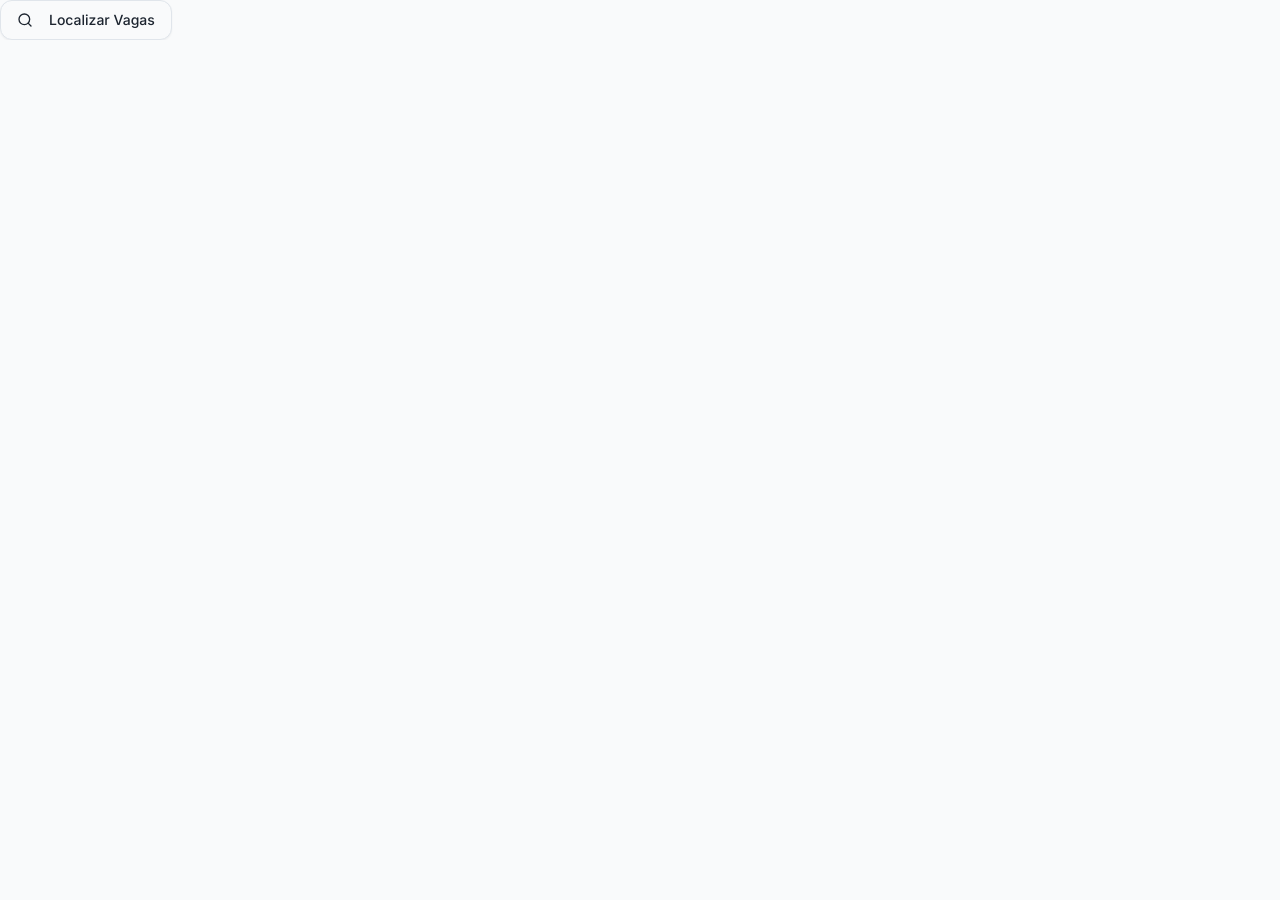
Scenario: LocalizarVagasPanel (integração) › falha nas pendências = Informação não disponível, nunca zero
The image size is (1280, 900).
Click the button "Localizar Vagas" at (86,20), box [0,0,172,40]
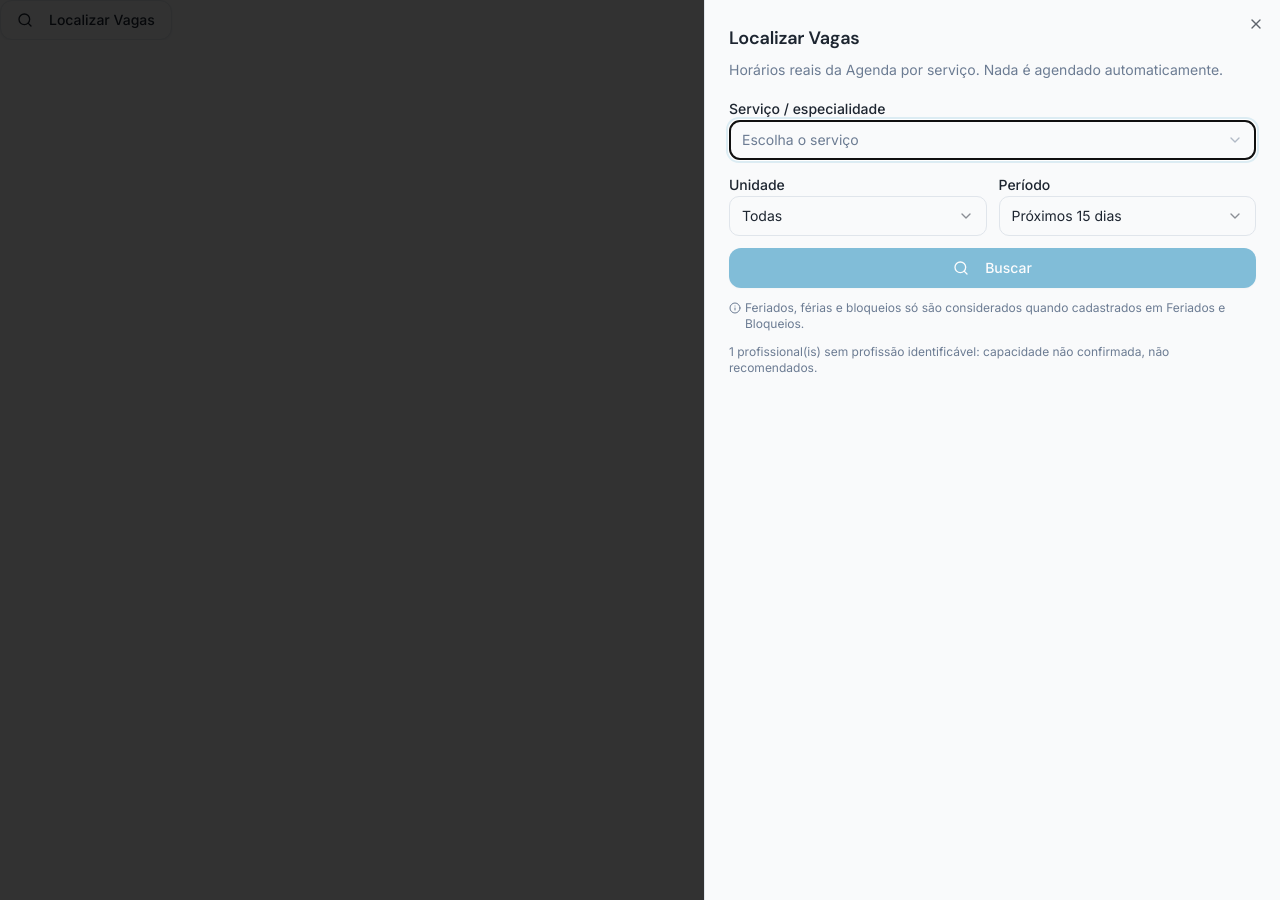
Click the dropdown labelled "Escolha o serviço" at (800,140), box [729,120,1256,160]
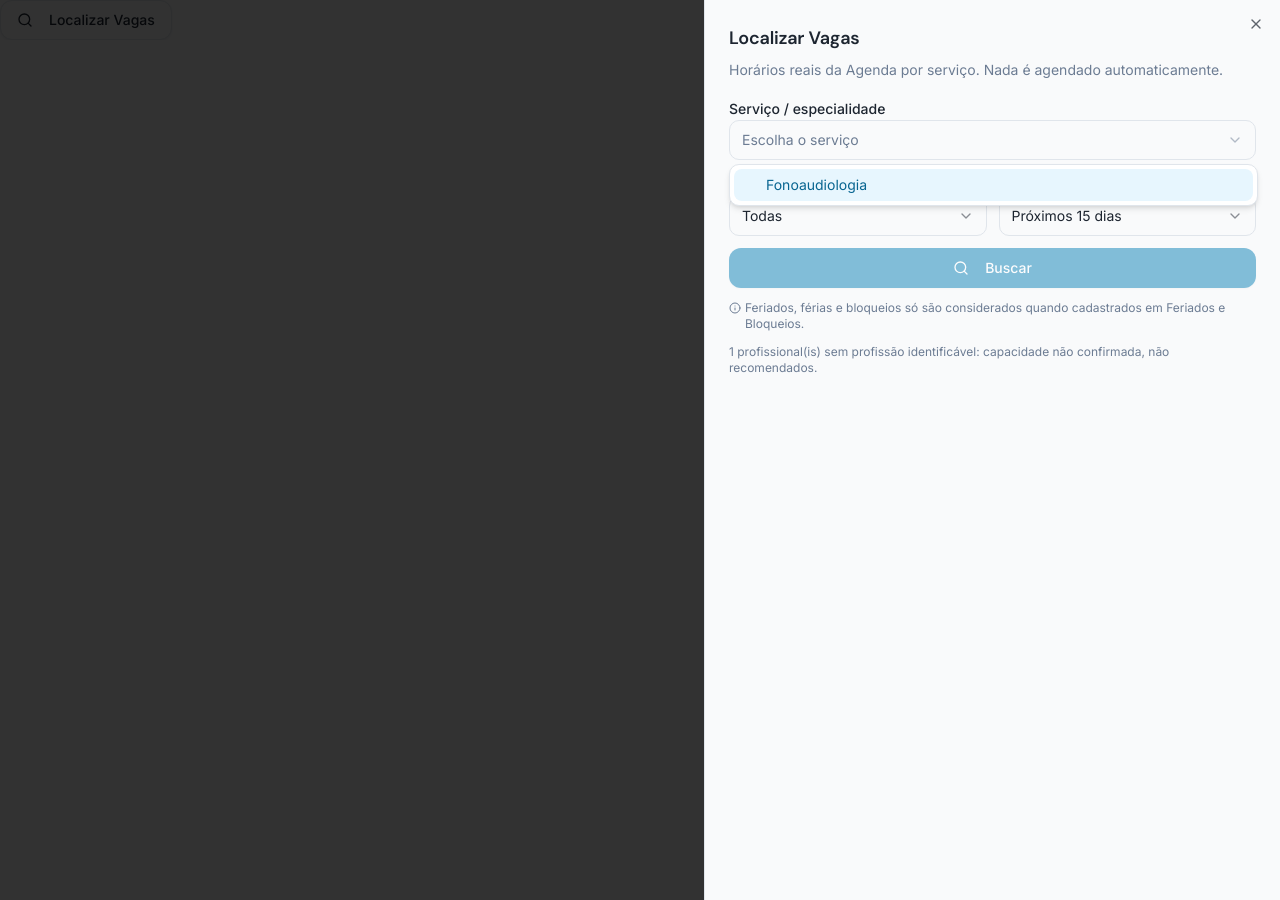
Click the option "Fonoaudiologia" at (817,184), box [734,169,1253,201]
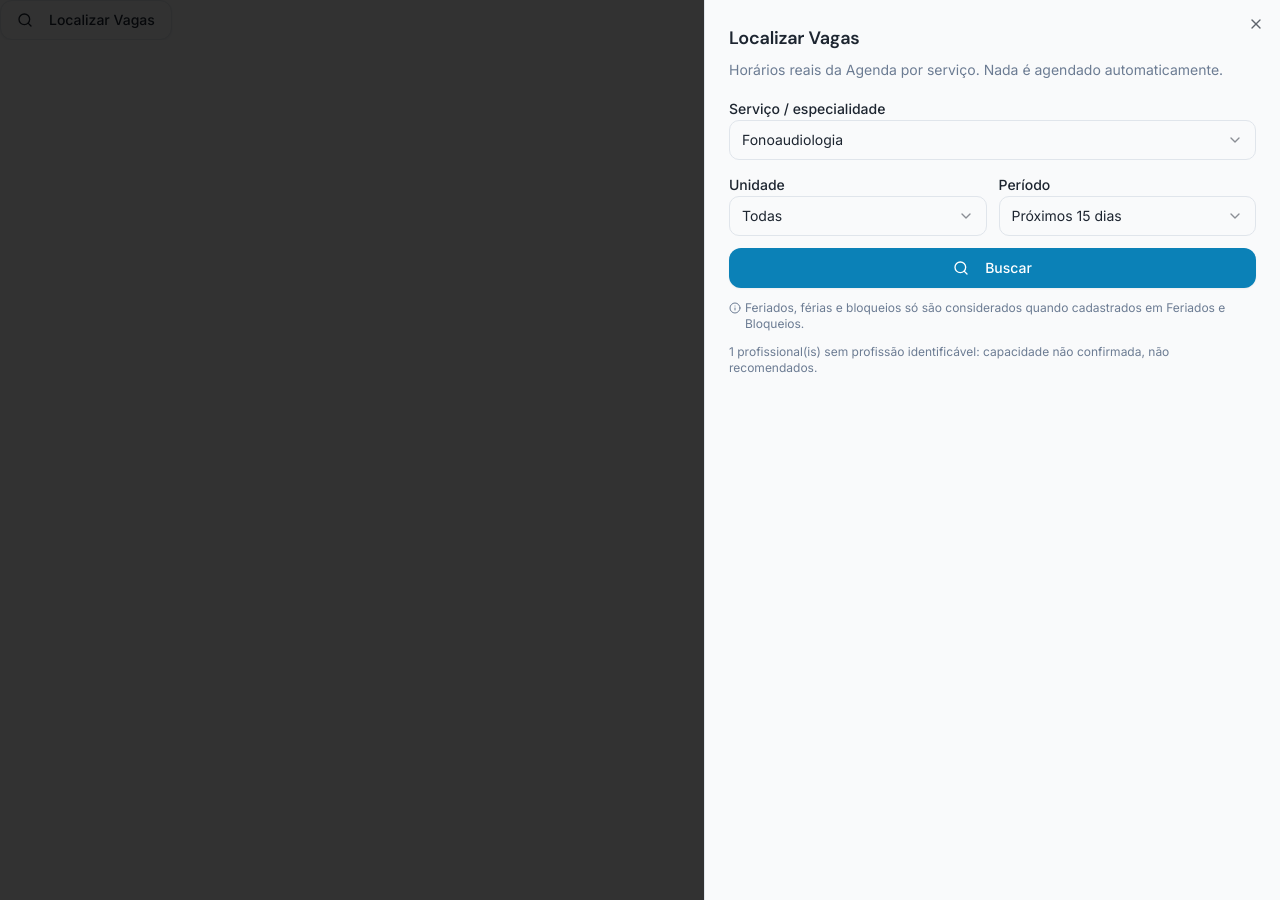
Click the button "Buscar" at (992,268), box [729,248,1256,288]
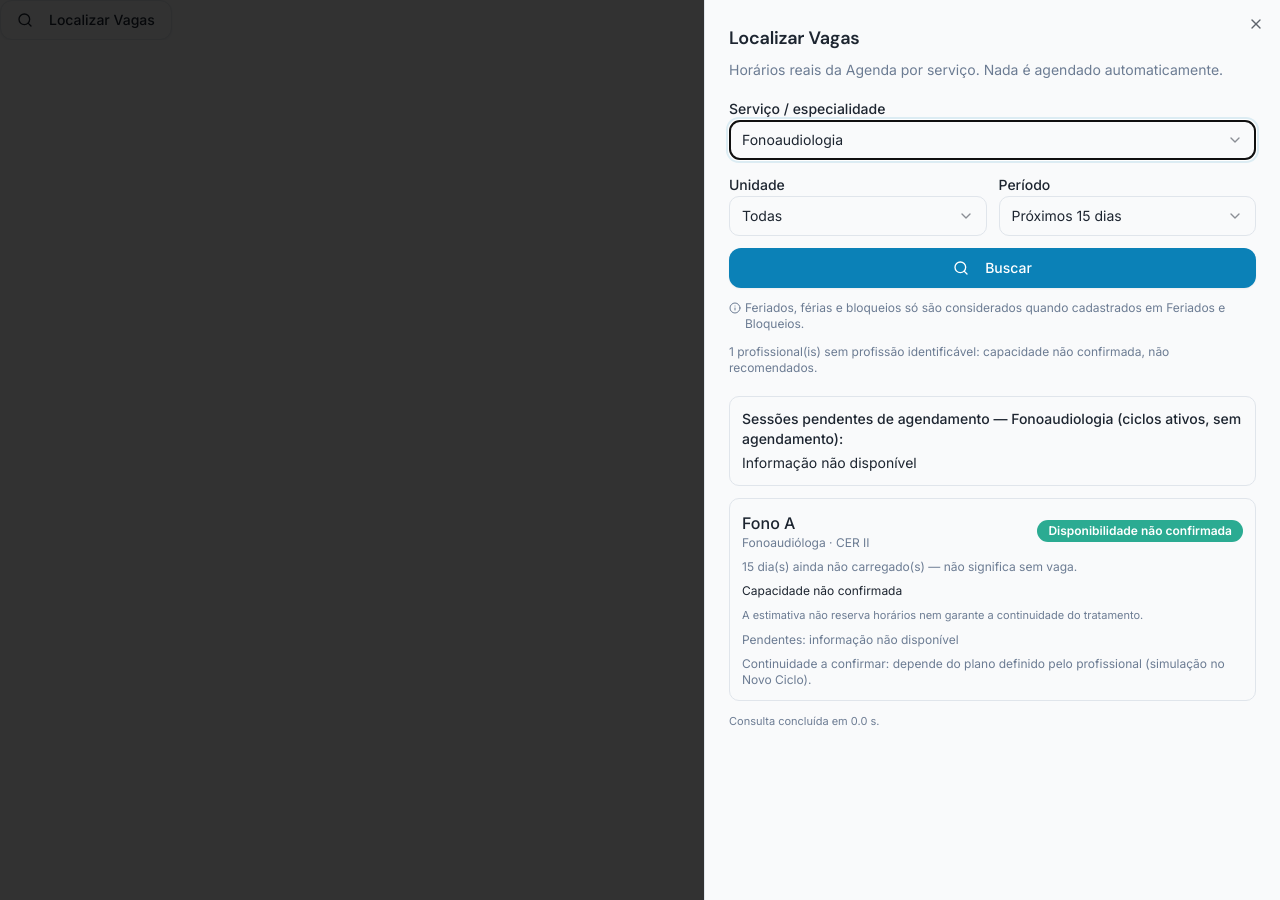
Result: the element with test id "pendentes-totais" shows "Informação não disponível" at [742,454,917,471]
